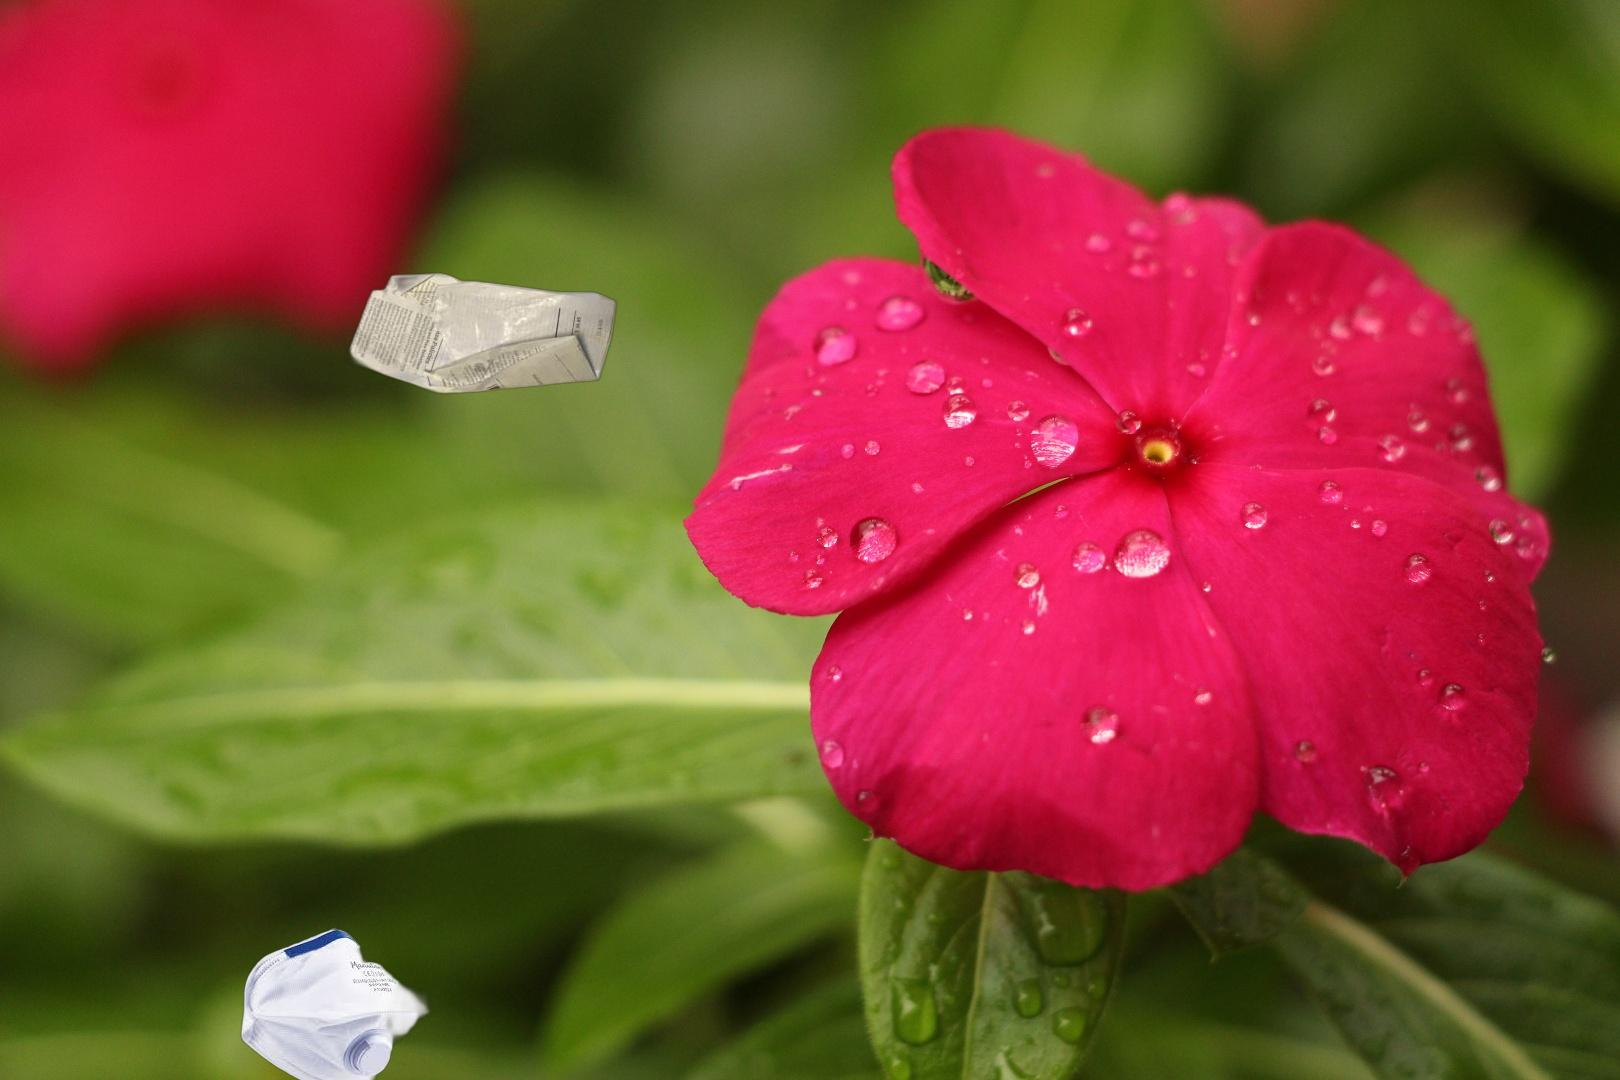paper: (342, 269, 622, 397)
trash: (237, 925, 434, 1080)
